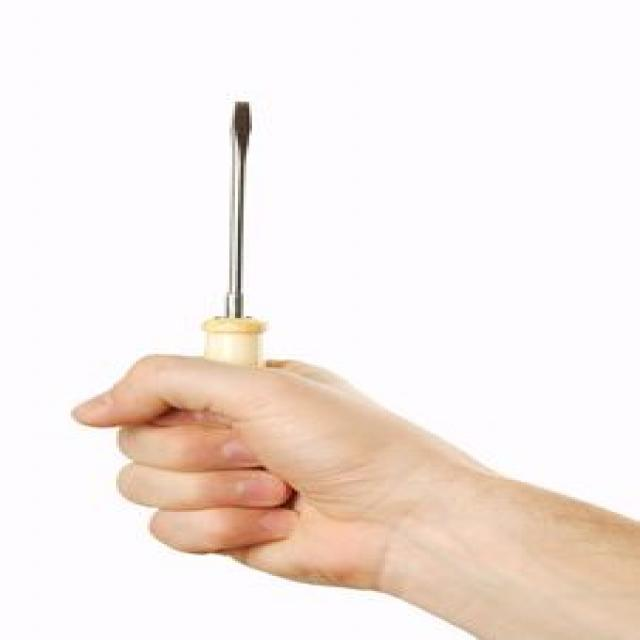screwdriver: (196, 95, 270, 380)
